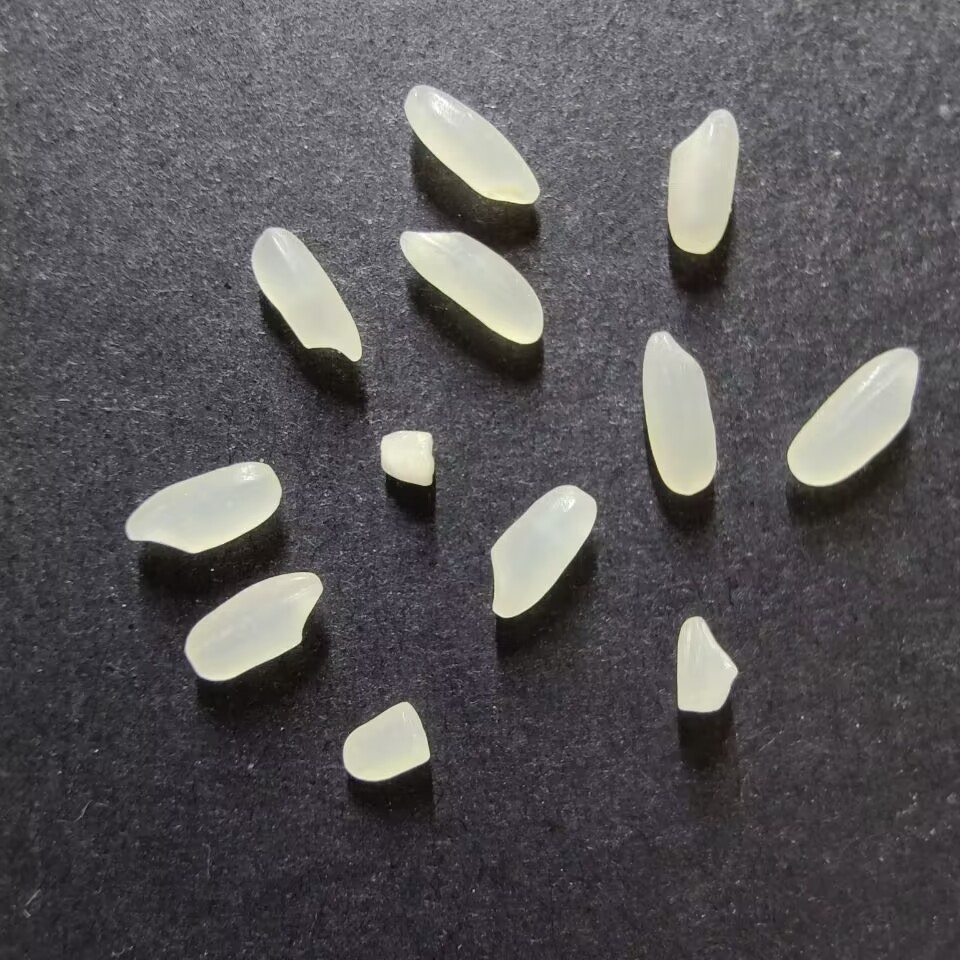broken: (342, 701, 430, 782), (675, 616, 737, 713), (379, 430, 435, 486)
rice: (786, 347, 918, 486), (398, 230, 544, 345), (403, 84, 540, 205), (250, 226, 363, 363), (184, 571, 322, 682), (124, 461, 281, 554), (489, 483, 597, 618), (641, 330, 716, 495), (666, 108, 738, 254)
